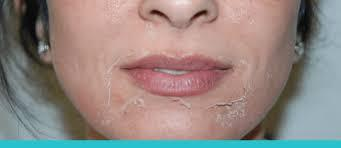Dry-Skin: (127, 96, 164, 113), (101, 63, 121, 93), (93, 106, 116, 126), (170, 96, 198, 112), (217, 102, 245, 117), (242, 85, 258, 101)
